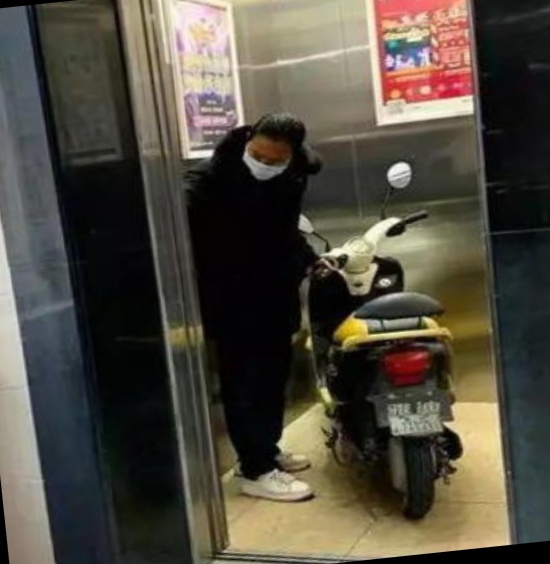ebike: (297, 160, 461, 521)
person: (198, 107, 309, 501)
